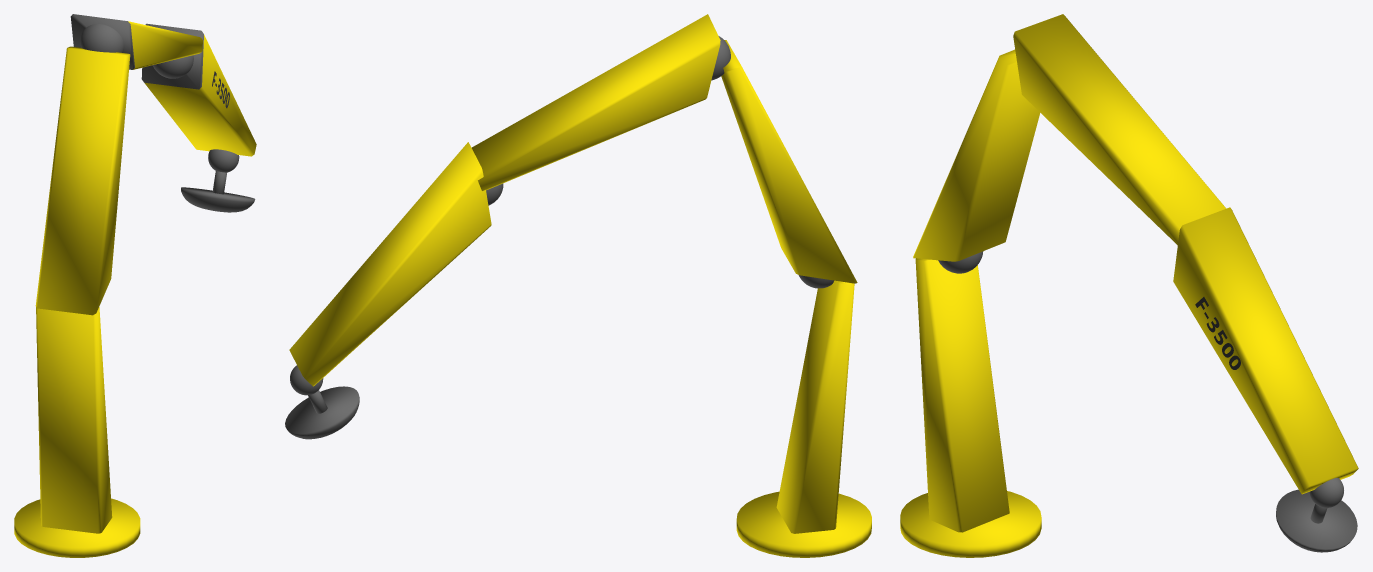
Rendered from robot.fbx.
3 views of the same model, side by side, from view 1: azimuth 30°, elevation 25°; view 2: azimuth 150°, elevation 25°; view 3: azimuth 270°, elevation 25° (orthographic). The views are drawn at different scales.
Visible parts, largest first — view 1: Куб.002, Куб.001, Куб.003, Куб, Сфера; view 2: Куб.002, Куб, Куб.003, Куб.001, Сфера; view 3: Куб.002, Куб.003, Куб, Куб.001, Сфера.
Part boxes in pixels (left/top/right/bottom): Куб.002: left=14, top=307, right=140, bottom=557; Куб.001: left=35, top=46, right=130, bottom=315; Куб.003: left=141, top=23, right=256, bottom=156; Куб: left=70, top=14, right=202, bottom=69; Сфера: left=181, top=149, right=255, bottom=212; Куб.002: left=736, top=280, right=871, bottom=557; Куб: left=472, top=14, right=730, bottom=190; Куб.003: left=289, top=142, right=503, bottom=386; Куб.001: left=721, top=40, right=857, bottom=288; Сфера: left=285, top=365, right=359, bottom=439; Куб.002: left=900, top=258, right=1041, bottom=557; Куб.003: left=1173, top=207, right=1358, bottom=494; Куб: left=1013, top=14, right=1225, bottom=245; Куб.001: left=913, top=49, right=1040, bottom=273; Сфера: left=1276, top=478, right=1357, bottom=552.
Size of the model in its own units: 1371 by 1632 by 1268.
